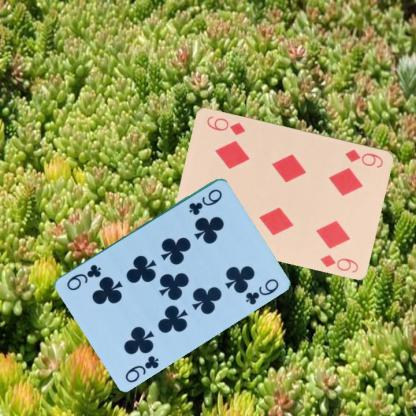6d: (342, 146, 384, 169)
9c: (122, 352, 160, 384), (186, 186, 224, 216)
